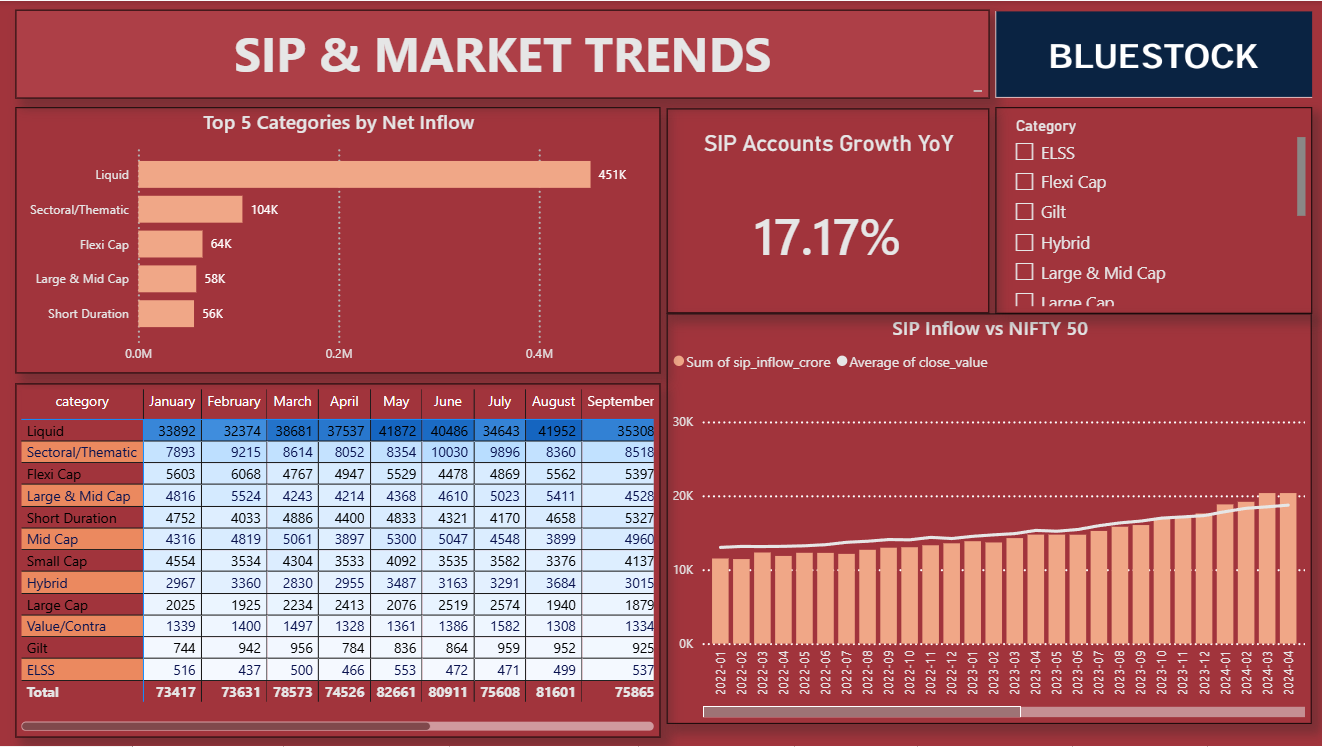

The page's visual inventory and layout, read from the dashboard file:
{"tool":"powerbi","page":{"name":"SIP & Market Trends","canvas":[1280,720],"ordinal":3},"visuals":[{"type":"lineClusteredColumnComboChart","title":"SIP Inflow vs NIFTY 50","fields":{"Y2":["Avg(clean_benchmark_indices.close_value)"],"Y":["Sum(clean_monthly_sip_inflows.sip_inflow_crore)"],"Category":["Dim_Date.Year-Month"]},"box":[645.4,301.6,622.5,395.7],"z":0},{"type":"clusteredBarChart","title":"Top 5 Categories by Net Inflow","fields":{"Category":["clean_category_inflows.category"],"Y":["Sum(clean_category_inflows.net_inflow_crore)"]},"box":[16.9,102.5,622.5,257],"z":1000},{"type":"slicer","fields":{"Values":["clean_category_inflows.category"]},"box":[962.7,102.5,305.2,199.1],"z":2000},{"type":"cardVisual","title":"SIP Accounts Growth YoY","fields":{"Data":["Dashboard_Measures.Measure"]},"box":[645.4,103.8,311.3,197.9],"z":3000},{"type":"pivotTable","fields":{"Values":["Sum(clean_category_inflows.net_inflow_crore)","select"],"Rows":["clean_category_inflows.category"],"Columns":["LocalDateTable_f2dcbce6-4f19-4de2-89de-a5c7c4eb53be.Month"]},"box":[16.9,369.2,622.5,341.4],"z":4000},{"type":"textbox","title":"SIP & MARKET TRENDS","box":[16.9,8.4,939.8,85.7],"z":5000},{"type":"image","box":[962.7,8.4,305.2,85.7],"z":6000}]}

Visuals, with their boxes in screenshot pixels (x1, y1, x2, y2), scaled from the page's 1280x720 canvas onto the 1322x747 screenshot:
"SIP Inflow vs NIFTY 50" lineClusteredColumnComboChart: box=[667, 313, 1310, 723]
"Top 5 Categories by Net Inflow" clusteredBarChart: box=[17, 106, 660, 373]
slicer - clean_category_inflows.category: box=[994, 106, 1310, 313]
"SIP Accounts Growth YoY" cardVisual: box=[667, 108, 988, 313]
pivotTable - Sum(clean_category_inflows.net_inflow_crore) x select: box=[17, 383, 660, 737]
"SIP & MARKET TRENDS" textbox: box=[17, 9, 988, 98]
image: box=[994, 9, 1310, 98]
